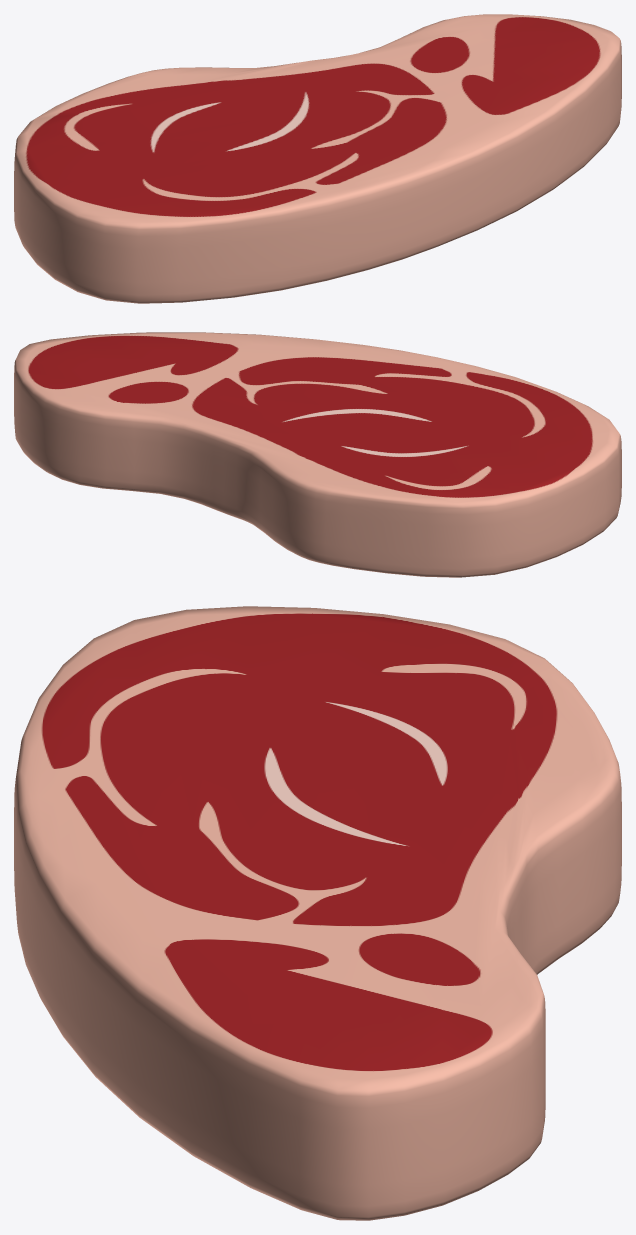
File: Beef.fbx
The picture shows the model from 3 angles, top to bottom: view 1: azimuth 30°, elevation 25°; view 2: azimuth 150°, elevation 25°; view 3: azimuth 270°, elevation 25°; orthographic projection. The views are drawn at different scales.
Visible parts, largest first — view 1: Beef; view 2: Beef; view 3: Beef.
Part boxes in pixels (box(x1,y1,x2,y2)): Beef: box(14, 14, 621, 303); Beef: box(14, 332, 621, 577); Beef: box(14, 606, 621, 1220).
Size of the model in its own units: 20.26 by 2.69 by 10.67.
